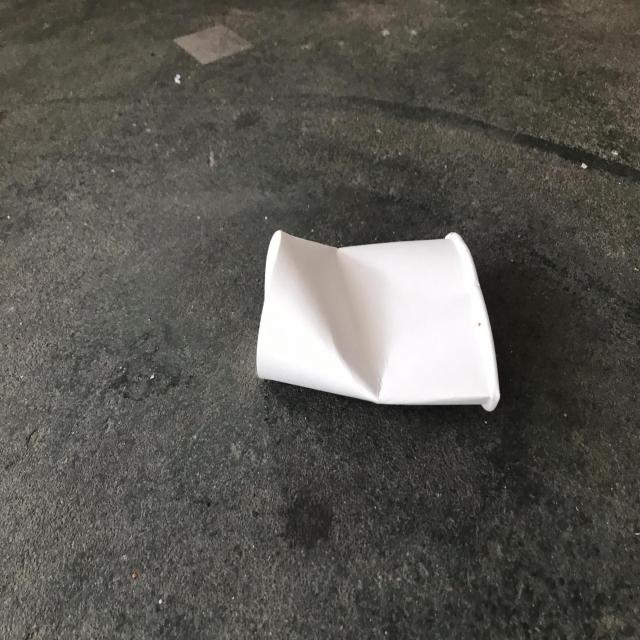paperpack: (257, 230, 500, 411)
